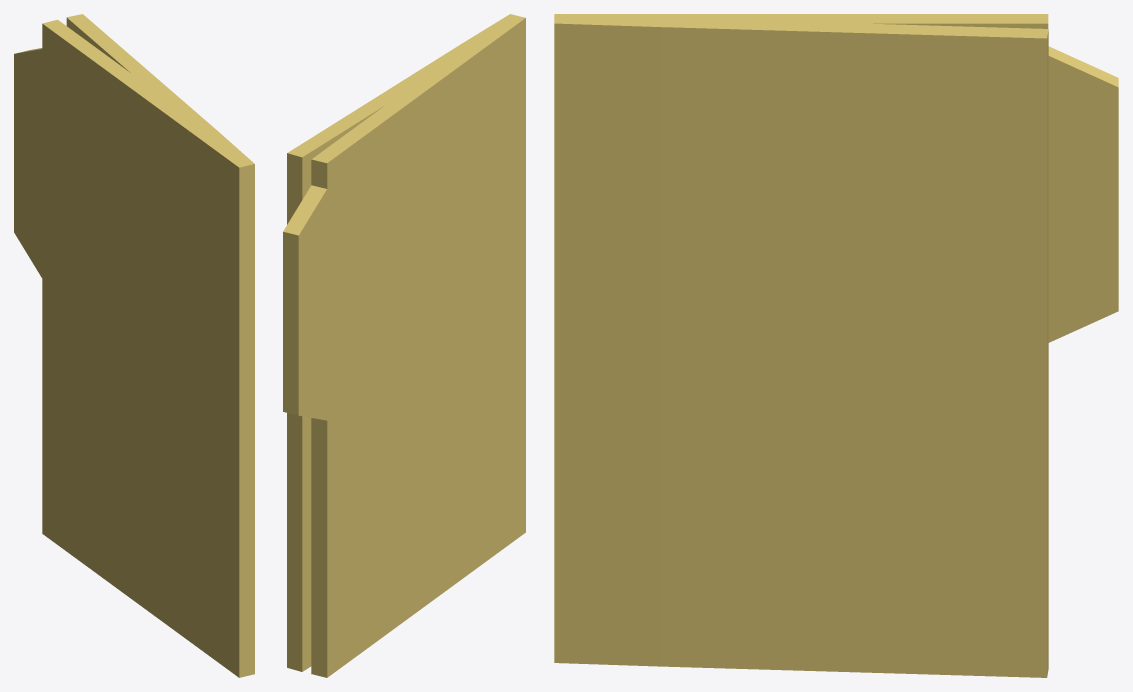
File: carpeta.glb
The picture shows the model from 3 angles, left to right: view 1: azimuth 30°, elevation 25°; view 2: azimuth 150°, elevation 25°; view 3: azimuth 270°, elevation 25°; orthographic projection. The views are drawn at different scales.
Visible parts, largest first — view 1: base, tapa, tapa.001; view 2: base, tapa, tapa.001; view 3: tapa, tapa.001, base.
Boxes of the visible parts, <box> form: base: <box>14,19,254,677</box>; tapa: <box>66,14,217,134</box>; tapa.001: <box>203,131,253,164</box>; base: <box>283,14,525,677</box>; tapa: <box>287,44,475,671</box>; tapa.001: <box>462,14,522,47</box>; tapa: <box>660,20,1048,677</box>; tapa.001: <box>554,14,660,666</box>; base: <box>554,14,1118,342</box>.
Bounding box in the file's own units: 0.0257 × 0.3125 × 0.25.
